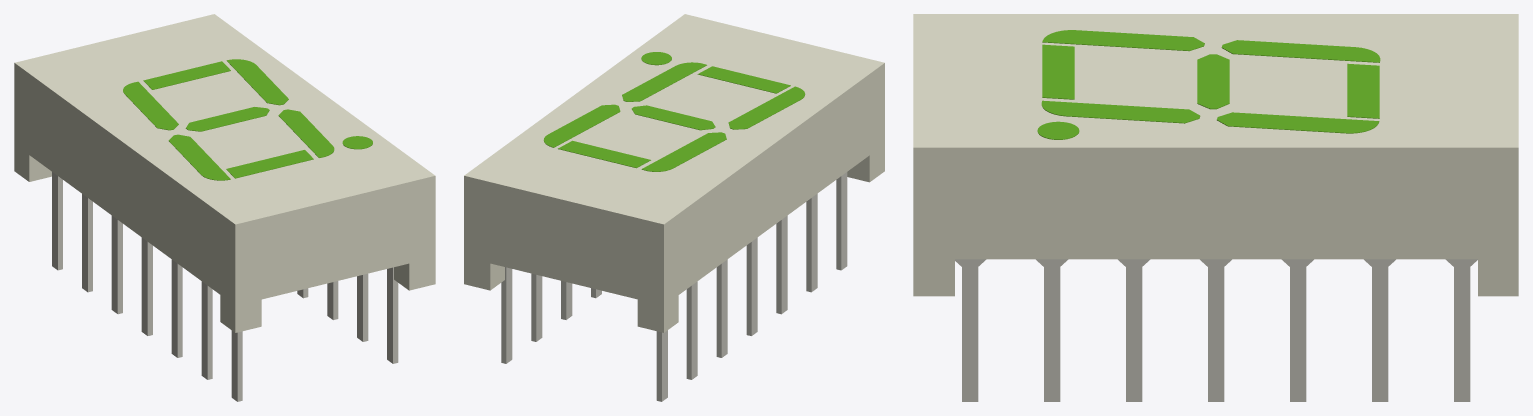
The model's file is kc-man3410a.glb.
The picture shows the model from 3 angles, left to right: view 1: azimuth 30°, elevation 25°; view 2: azimuth 150°, elevation 25°; view 3: azimuth 270°, elevation 25°; orthographic projection. The views are drawn at different scales.
Visible parts, largest first — view 1: 0.75_0.75_0.6666666666666666_0, 0.6666666666666666_0.6666666666666666_0.5833333333333334_0.8, 0.16666666666666666_0.4166666666666667_0_0; view 2: 0.75_0.75_0.6666666666666666_0, 0.6666666666666666_0.6666666666666666_0.5833333333333334_0.8, 0.16666666666666666_0.4166666666666667_0_0; view 3: 0.75_0.75_0.6666666666666666_0, 0.6666666666666666_0.6666666666666666_0.5833333333333334_0.8, 0.16666666666666666_0.4166666666666667_0_0.
Part boxes in pixels (x1,y1,x2,y2): 0.75_0.75_0.6666666666666666_0: (14, 14, 435, 332); 0.6666666666666666_0.6666666666666666_0.5833333333333334_0.8: (52, 172, 398, 401); 0.16666666666666666_0.4166666666666667_0_0: (123, 59, 372, 180); 0.75_0.75_0.6666666666666666_0: (464, 14, 884, 332); 0.6666666666666666_0.6666666666666666_0.5833333333333334_0.8: (501, 172, 847, 401); 0.16666666666666666_0.4166666666666667_0_0: (543, 52, 805, 171); 0.75_0.75_0.6666666666666666_0: (913, 14, 1518, 296); 0.6666666666666666_0.6666666666666666_0.5833333333333334_0.8: (955, 259, 1477, 401); 0.16666666666666666_0.4166666666666667_0_0: (1037, 30, 1380, 139).
Size of the model in its own units: 0.98 by 0.916 by 1.88.
